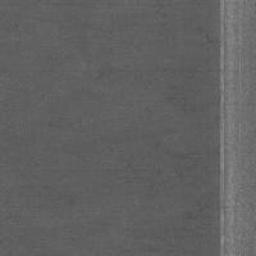Welding line: (216, 0, 228, 256)
